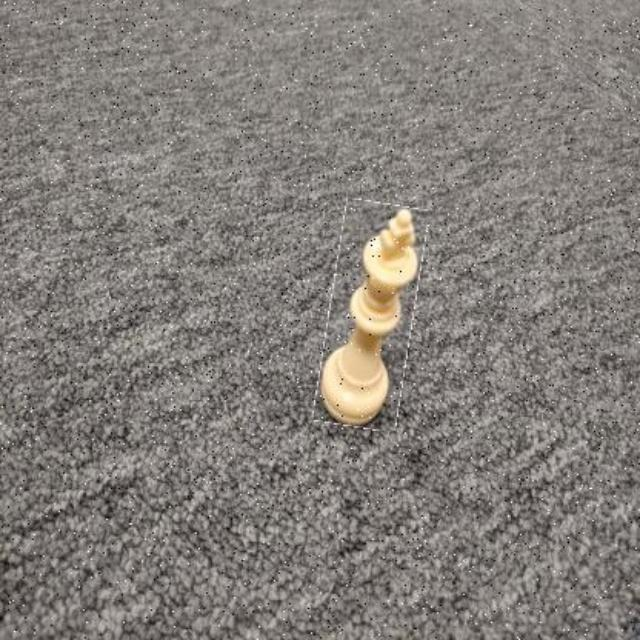white-king: (321, 200, 421, 429)
